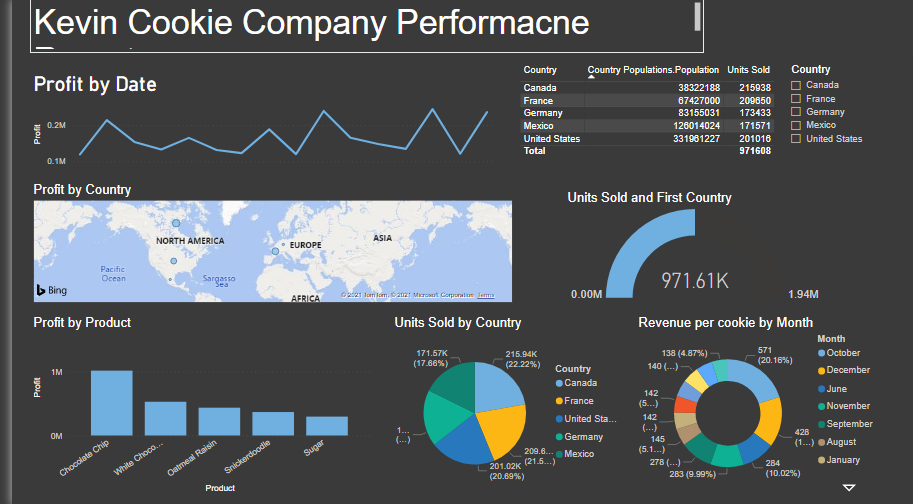

What the dashboard file says about the page in this screenshot:
{"tool":"powerbi","page":{"name":"Page 1","canvas":[1280,720],"ordinal":0},"visuals":[{"type":"textbox","box":[26,0,956.6,76.5],"z":0},{"type":"lineChart","fields":{"Category":["Cookie Sales.Date"],"Y":["Cookie Sales.Profit"]},"box":[26,103.9,663.7,140],"z":1000},{"type":"map","fields":{"Category":["Cookie Sales.Country"],"Size":["Cookie Sales.Profit"]},"box":[26,259.7,689.7,176],"z":2000},{"type":"tableEx","fields":{"Values":["Cookie Sales.Country","Cookie Sales.Country Populations.Population","Cookie Sales.Units Sold"]},"box":[715.7,86.6,373.7,173.1],"z":3000},{"type":"clusteredColumnChart","fields":{"Category":["Cookie Sales.Product"],"Y":["Cookie Sales.Profit"]},"box":[26,448.7,489.1,258.3],"z":4000},{"type":"slicer","fields":{"Values":["Cookie Sales.Country"]},"box":[1093.7,86.6,186.1,142.8],"z":5000},{"type":"pieChart","fields":{"Series":["Cookie Sales.Country"],"Y":["Cookie Sales.Units Sold"]},"box":[538.2,448.7,336.2,258.3],"z":6000},{"type":"donutChart","fields":{"Category":["Cookie Sales.Month"],"Y":["Cookie Sales.Revenue per cookie"]},"box":[884.5,448.7,352.1,258.3],"z":7000},{"type":"gauge","fields":{"Y":["Cookie Sales.Units Sold"]},"box":[783.5,271.3,372.3,164.5],"z":8000}]}

Visuals, with their boxes in screenshot pixels (x1, y1, x2, y2), scaled from the page's 1280x720 canvas onto the 913x504 screenshot:
textbox: <region>19, 0, 701, 54</region>
lineChart - Cookie Sales.Date x Cookie Sales.Profit: <region>19, 73, 492, 171</region>
map - Cookie Sales.Country x Cookie Sales.Profit: <region>19, 182, 510, 305</region>
tableEx - Cookie Sales.Country x Cookie Sales.Country Populations.Population: <region>510, 61, 777, 182</region>
clusteredColumnChart - Cookie Sales.Product x Cookie Sales.Profit: <region>19, 314, 367, 495</region>
slicer - Cookie Sales.Country: <region>780, 61, 912, 161</region>
pieChart - Cookie Sales.Country x Cookie Sales.Units Sold: <region>384, 314, 624, 495</region>
donutChart - Cookie Sales.Month x Cookie Sales.Revenue per cookie: <region>631, 314, 882, 495</region>
gauge - Cookie Sales.Units Sold: <region>559, 190, 824, 305</region>
